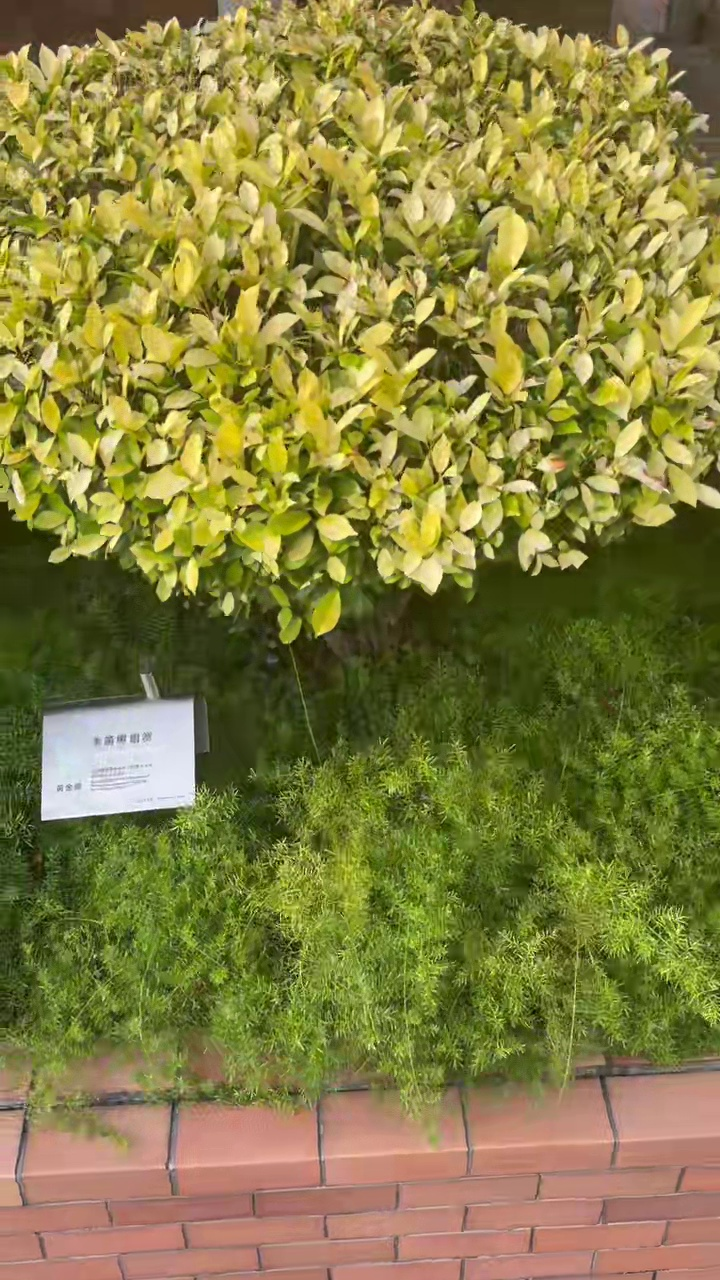Golden-leaves Fig: (404, 349, 434, 373)
